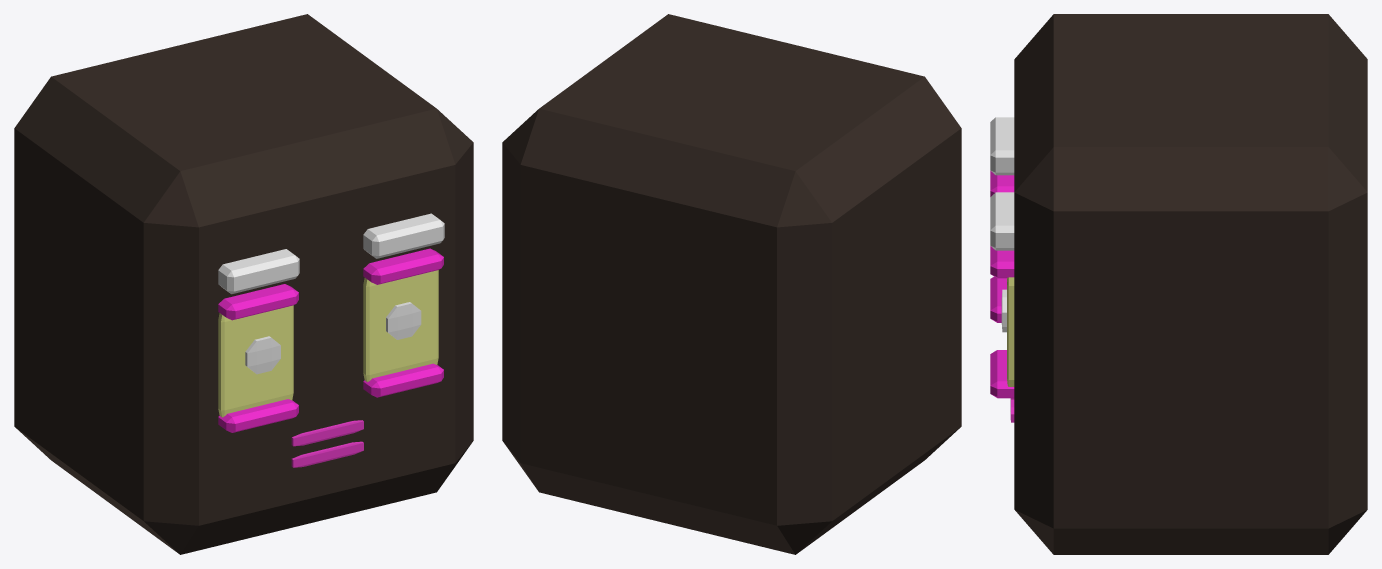
The model's file is boss07.glb.
3 views of the same model, side by side, from view 1: azimuth 30°, elevation 25°; view 2: azimuth 150°, elevation 25°; view 3: azimuth 270°, elevation 25° (orthographic). The views are drawn at different scales.
Visible parts, largest first — view 1: head, Cube.002, EyeBrown, lip_up, lip_down', eye, eyes, mouth', mouth; view 2: head; view 3: head, EyeBrown, lip_down', lip_up, Cube.002.
Part boxes in pixels (x1=…): head: x1=14, y1=14, x2=473, y2=554; Cube.002: x1=218, y1=270, x2=438, y2=417; EyeBrown: x1=218, y1=213, x2=444, y2=294; lip_up: x1=218, y1=248, x2=443, y2=320; lip_down': x1=218, y1=363, x2=443, y2=432; eye: x1=386, y1=302, x2=421, y2=339; eyes: x1=245, y1=336, x2=280, y2=374; mouth': x1=291, y1=441, x2=363, y2=467; mouth: x1=291, y1=420, x2=363, y2=446; head: x1=502, y1=14, x2=961, y2=554; head: x1=1014, y1=14, x2=1367, y2=554; EyeBrown: x1=990, y1=117, x2=1014, y2=250; lip_down': x1=990, y1=276, x2=1014, y2=398; lip_up: x1=990, y1=171, x2=1014, y2=278; Cube.002: x1=1007, y1=277, x2=1014, y2=386.
Bounding box in the file's own units: 1.8 × 2 × 1.68.
